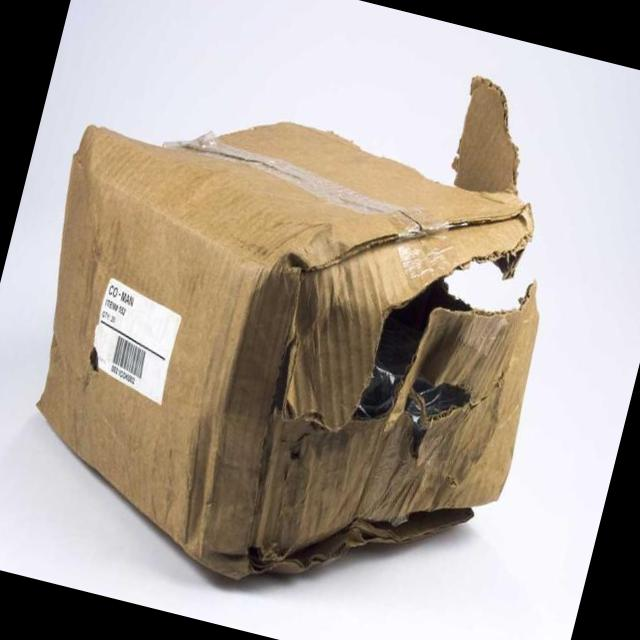box: (57, 145, 584, 535)
